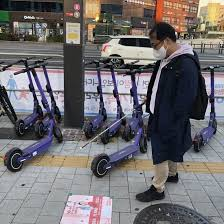guide_blocks: (2, 153, 224, 172)
kick_handler: (14, 62, 47, 74), (116, 67, 151, 78), (201, 63, 224, 72), (84, 58, 111, 64)
kick_neck: (109, 73, 121, 105), (129, 77, 140, 109), (208, 73, 217, 111), (95, 71, 104, 106), (27, 77, 36, 105)
kick_wheel: (89, 154, 109, 178), (4, 148, 24, 172), (190, 132, 203, 151), (33, 120, 45, 136), (138, 136, 148, 153), (14, 121, 26, 135), (100, 125, 109, 143), (84, 121, 92, 138), (52, 106, 61, 121), (54, 127, 62, 143), (123, 124, 131, 140), (210, 120, 218, 133)
